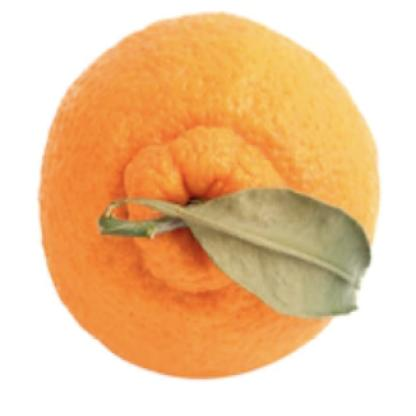fresh: (34, 14, 380, 387)
